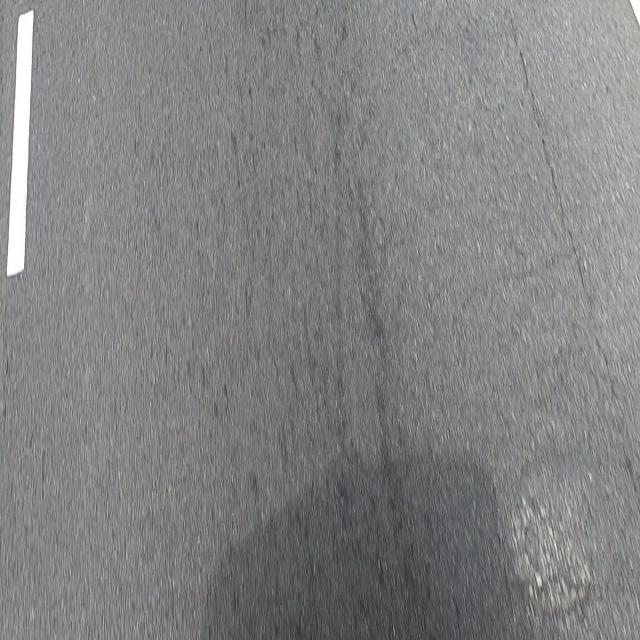Retak-Memanjang: (519, 55, 589, 307)
